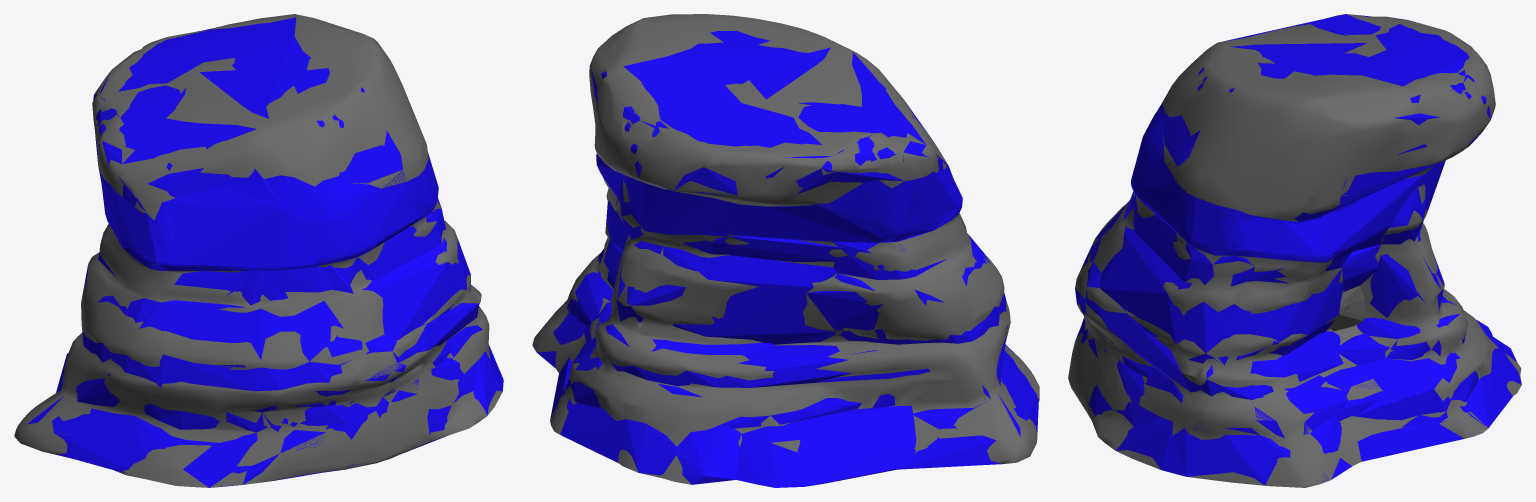
Rendered from Cliff_big_12.fbx.
3 views of the same model, side by side, from view 1: azimuth 30°, elevation 25°; view 2: azimuth 150°, elevation 25°; view 3: azimuth 270°, elevation 25° (orthographic). The views are drawn at different scales.
Parts seen in each view (by area): view 1: Cliff_big_14_LOD0, Cliff_big_12_COL00, Cliff_big_12_COL01, Cliff_big_12_COL04, Cliff_big_12_COL10, Cliff_big_12_COL05, Cliff_big_12_COL02, Cliff_big_12_COL06, Cliff_big_12_COL15, Cliff_big_12_COL09, Cliff_big_12_COL08, Cliff_big_12_COL11; view 2: Cliff_big_14_LOD0, Cliff_big_12_COL00, Cliff_big_12_COL01, Cliff_big_12_COL13, Cliff_big_12_COL04, Cliff_big_12_COL14, Cliff_big_12_COL05, Cliff_big_12_COL10, Cliff_big_12_COL09, Cliff_big_12_COL03, Cliff_big_12_COL11, Cliff_big_12_COL08 (+5 smaller); view 3: Cliff_big_14_LOD0, Cliff_big_12_COL05, Cliff_big_12_COL00, Cliff_big_12_COL01, Cliff_big_12_COL11, Cliff_big_12_COL06, Cliff_big_12_COL12, Cliff_big_12_COL02, Cliff_big_12_COL14, Cliff_big_12_COL07, Cliff_big_12_COL04, Cliff_big_12_COL13 (+9 smaller).
Boxes of the visible parts, bbox=[...] form: Cliff_big_14_LOD0: bbox=[14, 14, 502, 487]; Cliff_big_12_COL00: bbox=[93, 17, 406, 212]; Cliff_big_12_COL01: bbox=[100, 159, 438, 270]; Cliff_big_12_COL04: bbox=[125, 300, 343, 412]; Cliff_big_12_COL10: bbox=[26, 325, 482, 487]; Cliff_big_12_COL05: bbox=[82, 238, 470, 371]; Cliff_big_12_COL02: bbox=[98, 197, 445, 300]; Cliff_big_12_COL06: bbox=[59, 285, 478, 420]; Cliff_big_12_COL15: bbox=[166, 70, 353, 305]; Cliff_big_12_COL09: bbox=[279, 357, 479, 479]; Cliff_big_12_COL08: bbox=[160, 292, 351, 432]; Cliff_big_12_COL11: bbox=[473, 351, 503, 415]; Cliff_big_14_LOD0: bbox=[532, 14, 1039, 484]; Cliff_big_12_COL00: bbox=[591, 30, 946, 198]; Cliff_big_12_COL01: bbox=[596, 154, 962, 242]; Cliff_big_12_COL13: bbox=[550, 357, 916, 487]; Cliff_big_12_COL04: bbox=[616, 233, 1006, 344]; Cliff_big_12_COL14: bbox=[560, 384, 741, 484]; Cliff_big_12_COL05: bbox=[606, 200, 1005, 344]; Cliff_big_12_COL10: bbox=[898, 344, 1038, 469]; Cliff_big_12_COL09: bbox=[716, 345, 851, 387]; Cliff_big_12_COL03: bbox=[616, 179, 844, 261]; Cliff_big_12_COL11: bbox=[566, 337, 861, 428]; Cliff_big_12_COL08: bbox=[595, 324, 774, 387]; Cliff_big_14_LOD0: bbox=[1068, 14, 1521, 487]; Cliff_big_12_COL05: bbox=[1090, 225, 1342, 364]; Cliff_big_12_COL00: bbox=[1162, 14, 1490, 221]; Cliff_big_12_COL01: bbox=[1131, 89, 1445, 262]; Cliff_big_12_COL11: bbox=[1116, 322, 1478, 476]; Cliff_big_12_COL06: bbox=[1083, 252, 1343, 399]; Cliff_big_12_COL12: bbox=[1173, 415, 1352, 485]; Cliff_big_12_COL02: bbox=[1129, 195, 1351, 286]; Cliff_big_12_COL14: bbox=[1402, 330, 1521, 427]; Cliff_big_12_COL07: bbox=[1088, 328, 1347, 438]; Cliff_big_12_COL04: bbox=[1082, 201, 1444, 317]; Cliff_big_12_COL13: bbox=[1357, 319, 1492, 461].
Size of what is drawn, in the model's own units: 3700 by 3017 by 2491.
